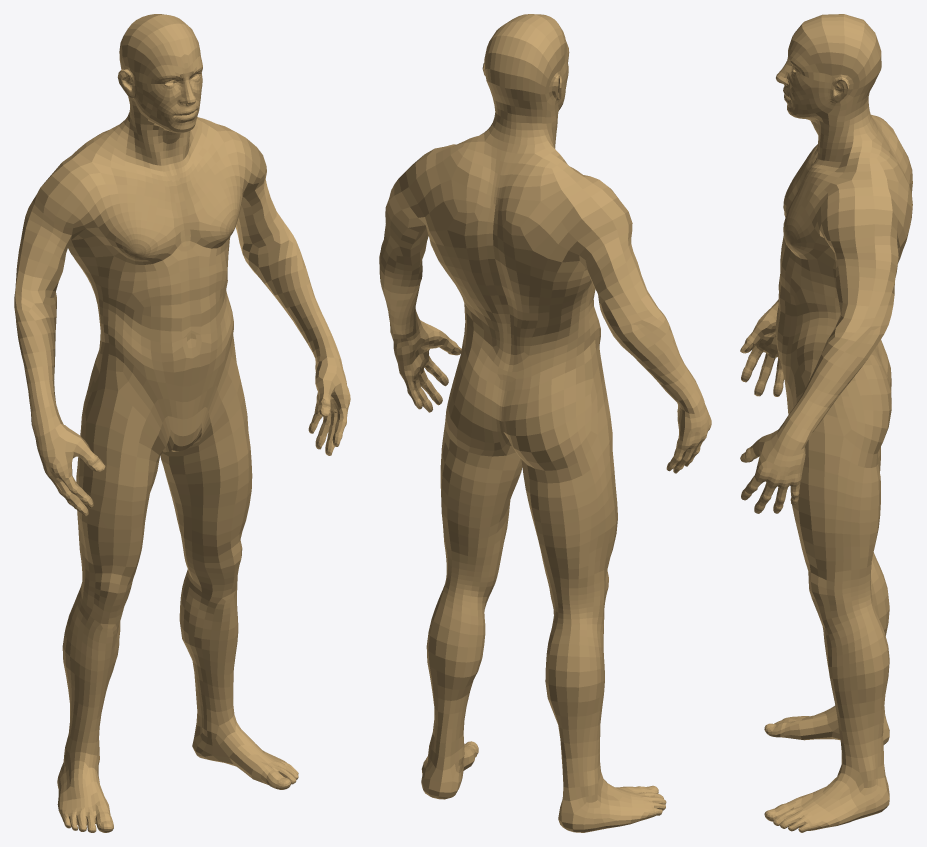
File: chelovek.glb
3 renders of one model, left to right at view 1: azimuth 30°, elevation 25°; view 2: azimuth 150°, elevation 25°; view 3: azimuth 270°, elevation 25°, orthographic. The views are drawn at different scales.
Parts seen in each view (by area): view 1: Low_Poly_Male_body:Group2; view 2: Low_Poly_Male_body:Group2; view 3: Low_Poly_Male_body:Group2.
Part boxes in pixels (<box>): Low_Poly_Male_body:Group2: <box>14,14,350,832</box>; Low_Poly_Male_body:Group2: <box>379,14,711,832</box>; Low_Poly_Male_body:Group2: <box>740,14,912,832</box>.
Size of the model in its own units: 0.738 by 1.8 by 0.3696.
